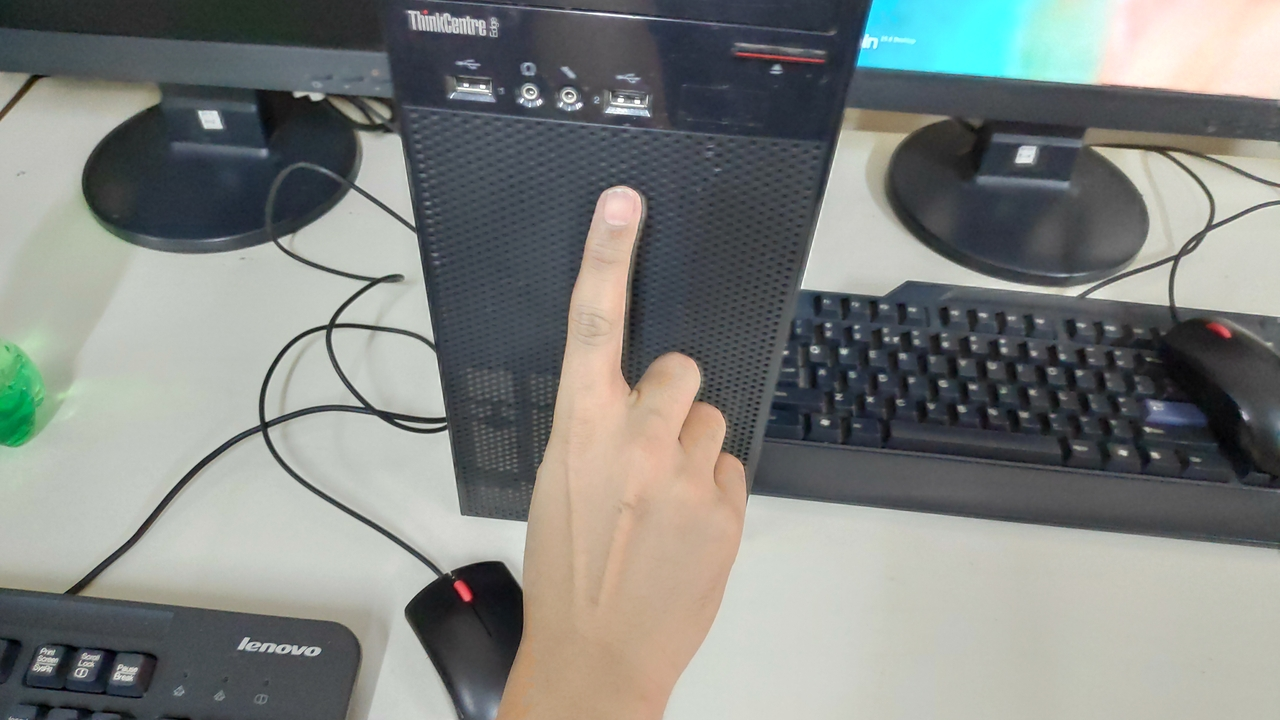fingertip: (580, 174, 654, 242)
